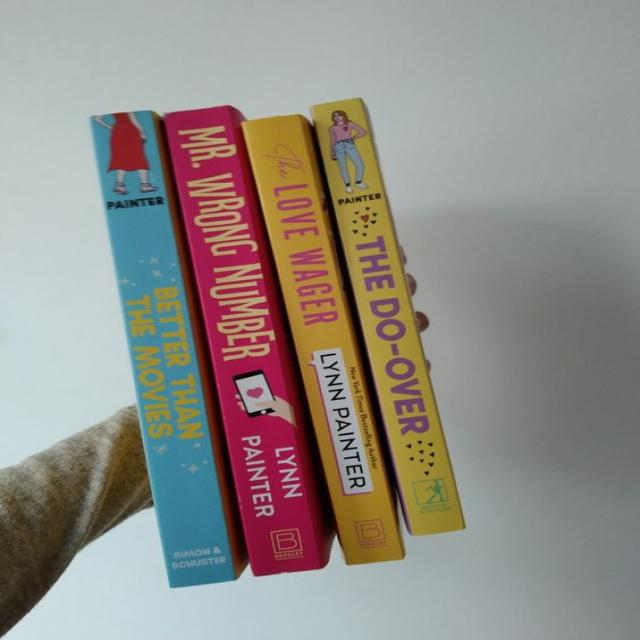book: (164, 105, 325, 575), (243, 113, 403, 567), (88, 111, 233, 589), (311, 98, 464, 536)
